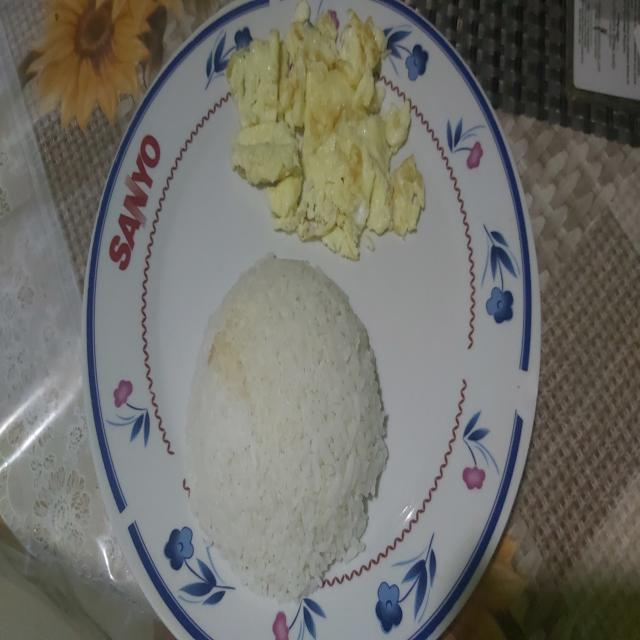Chicken -Chicken Inasal-: (190, 251, 382, 590)
